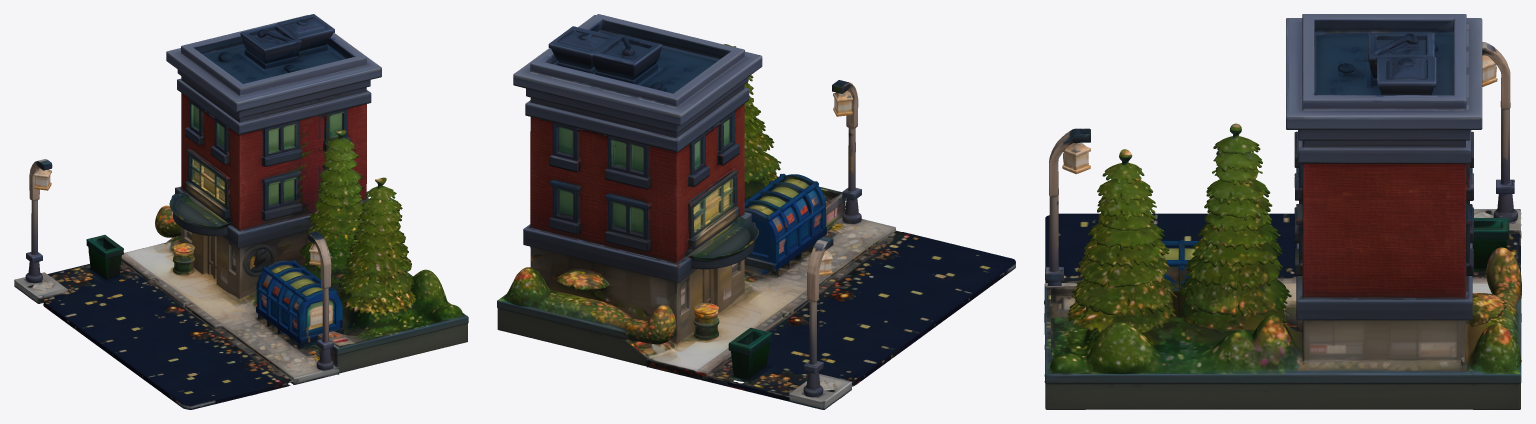
The model's file is tiny_urban_street__stylized_miniature_scene.glb.
3 renders of one model, left to right at view 1: azimuth 30°, elevation 25°; view 2: azimuth 150°, elevation 25°; view 3: azimuth 270°, elevation 25°, orthographic. The views are drawn at different scales.
Parts seen in each view (by area): view 1: texture_pbr_v128_0; view 2: texture_pbr_v128_0; view 3: texture_pbr_v128_0.
Part boxes in pixels (x1,y1,x2,y2): texture_pbr_v128_0: (14, 14, 468, 409); texture_pbr_v128_0: (497, 14, 1015, 409); texture_pbr_v128_0: (1044, 14, 1521, 409).
Size of the model in its own units: 0.7312 by 0.5794 by 0.7664.
1 material, 1 textured.
